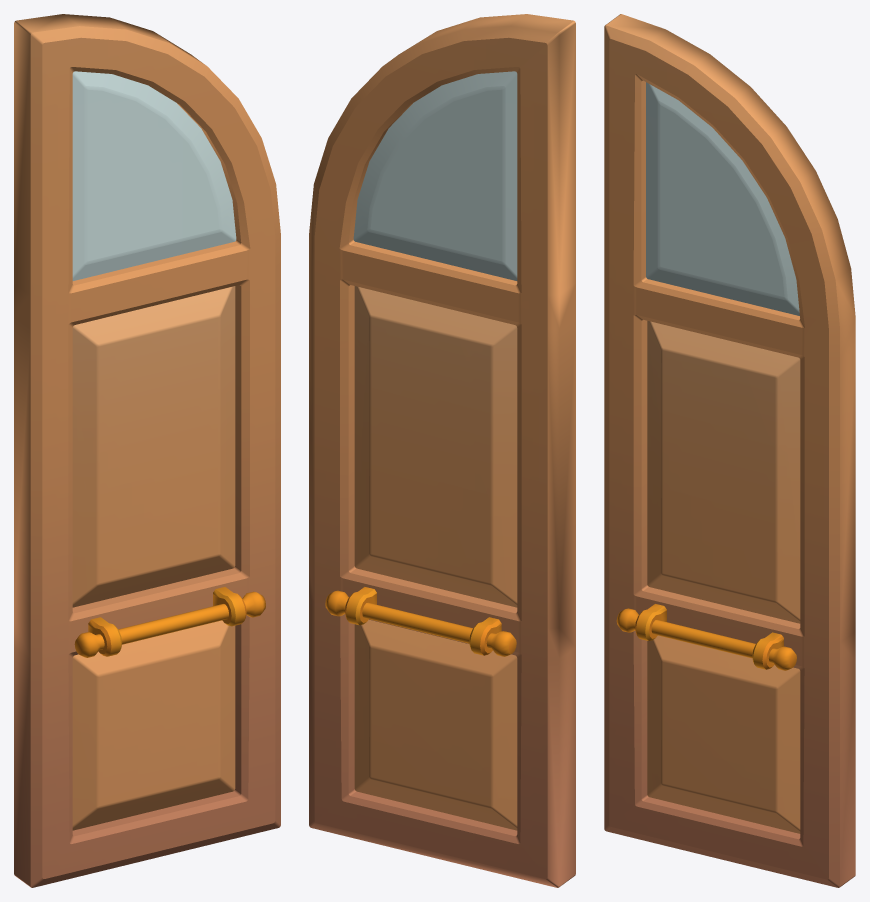
The model's file is door.glb.
3 renders of one model, left to right at view 1: azimuth 30°, elevation 25°; view 2: azimuth 150°, elevation 25°; view 3: azimuth 330°, elevation 25°, orthographic. The views are drawn at different scales.
Parts seen in each view (by area): view 1: Cube.010; view 2: Cube.010; view 3: Cube.010.
Boxes of the visible parts, x1,y1,x2,y2 form: Cube.010: [14, 14, 280, 887]; Cube.010: [309, 14, 575, 887]; Cube.010: [604, 14, 855, 887].
Bounding box in the file's own units: 1 × 3.27 × 0.4307.
2 materials, 2 textured.
